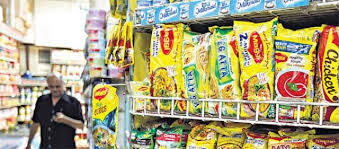maggi: (149, 28, 275, 95)
